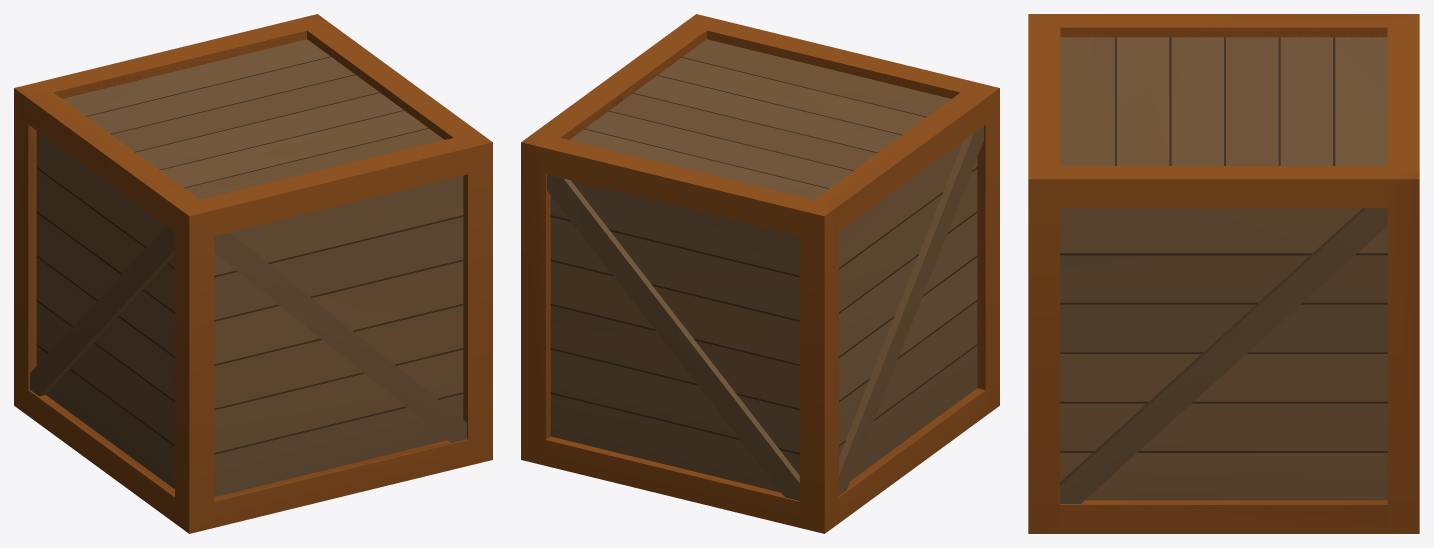
File: crate.framed.orange.glb
The picture shows the model from 3 angles, left to right: view 1: azimuth 30°, elevation 25°; view 2: azimuth 150°, elevation 25°; view 3: azimuth 270°, elevation 25°; orthographic projection. The views are drawn at different scales.
Visible parts, largest first — view 1: crate_framed_orange; view 2: crate_framed_orange; view 3: crate_framed_orange.
Part boxes in pixels (x1=…): crate_framed_orange: x1=14, y1=14, x2=492, y2=533; crate_framed_orange: x1=521, y1=14, x2=999, y2=533; crate_framed_orange: x1=1028, y1=14, x2=1419, y2=533.
Size of what is drawn, in the model's own units: 1.1 by 1.1 by 1.1.
